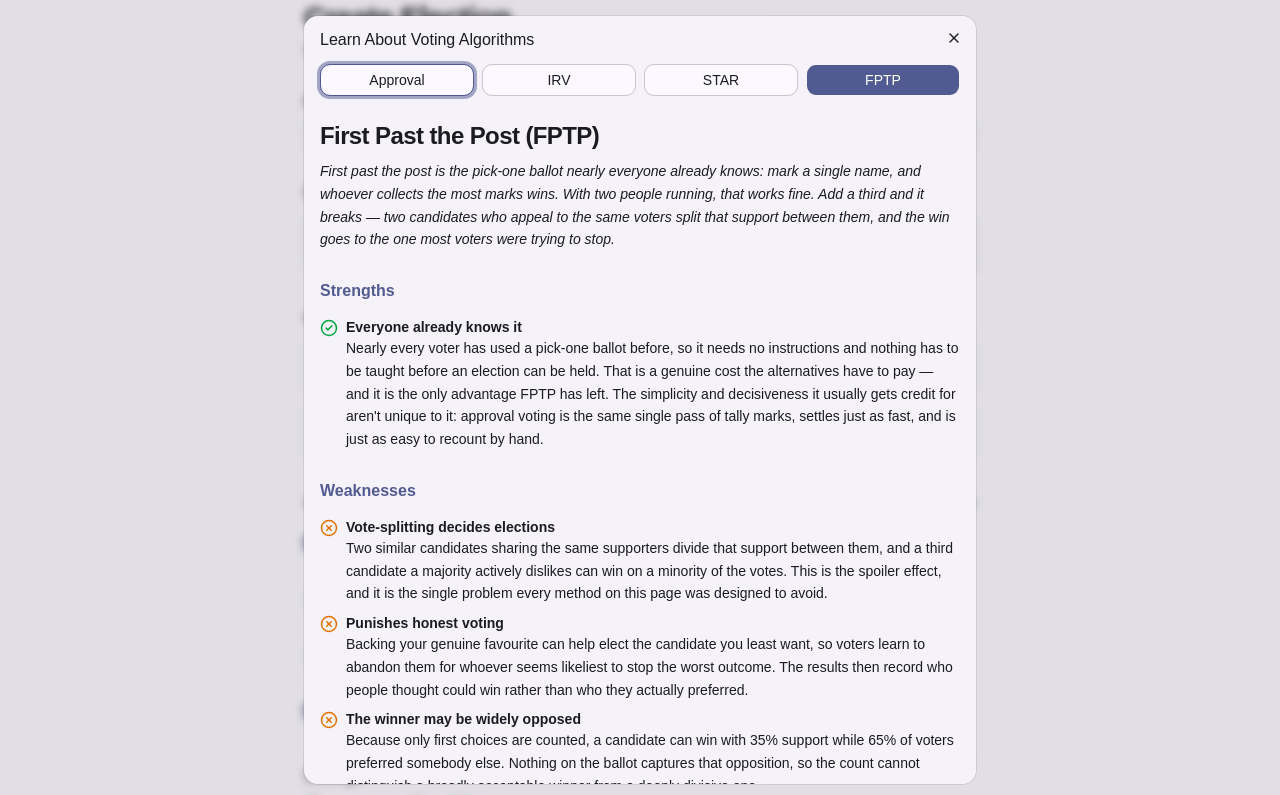
it: M11 create election › closes a direct explainer deep link without leaving the app
The width and height of the screenshot is (1280, 795).
expect the dialog is shown: met, box [304,16,976,784]
Click the button named "Close". click: (954, 38)
box: [940,24,968,52]
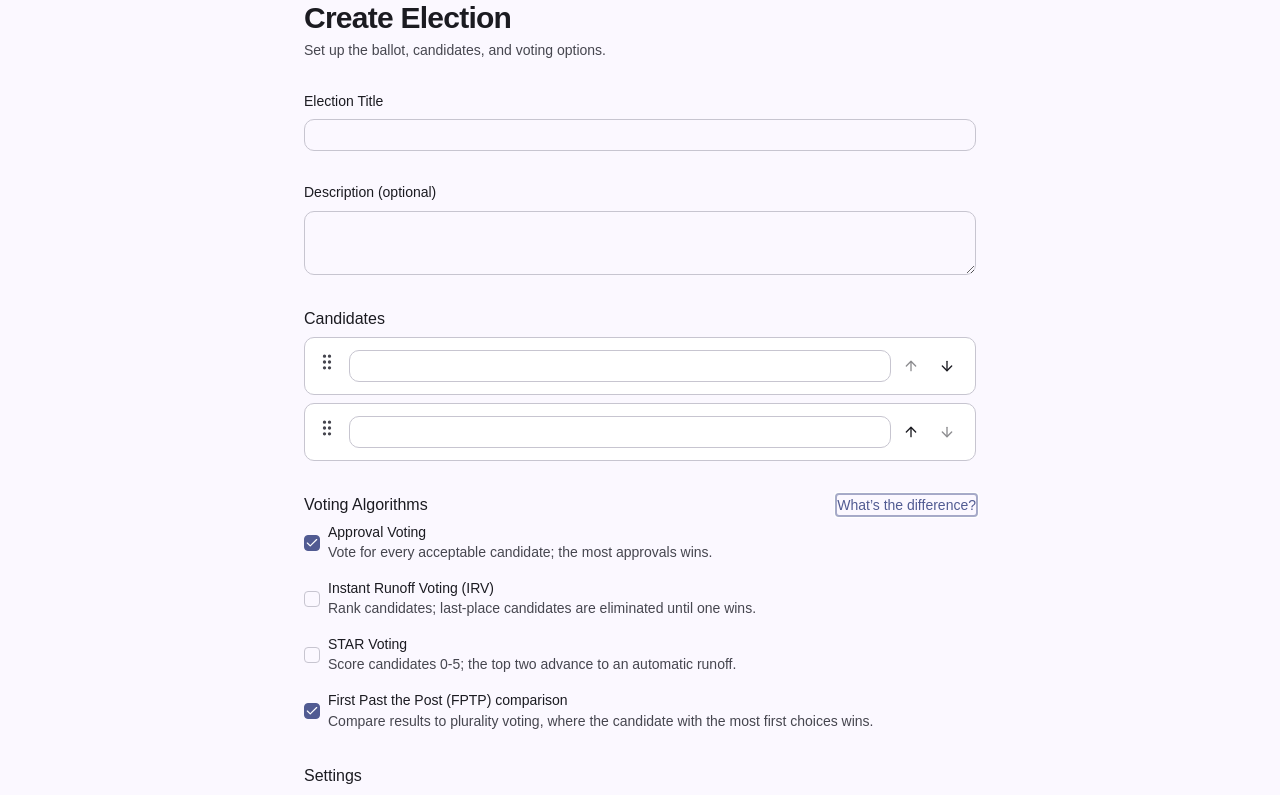
expect the dialog is gone: met
